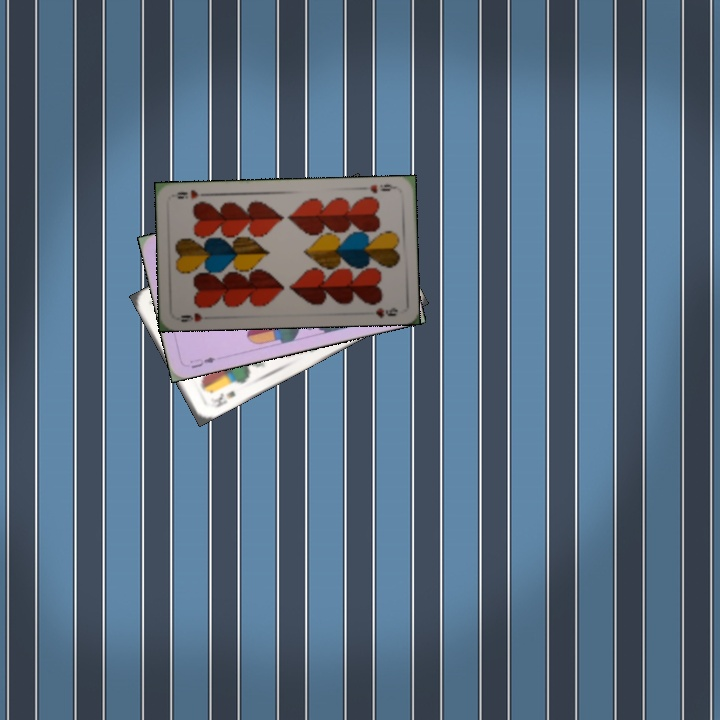EK: (205, 386, 238, 411)
EU: (186, 353, 218, 371)
H9: (366, 180, 399, 196), (177, 309, 205, 325)
